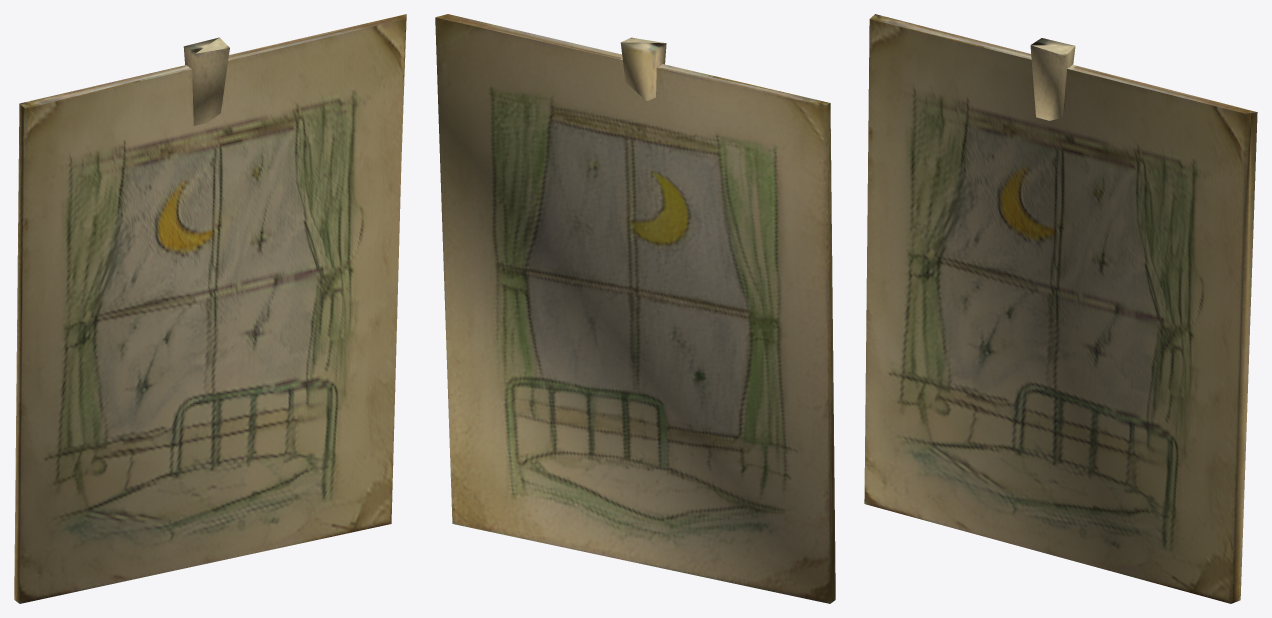
File: picture2.fbx
3 views of the same model, side by side, from view 1: azimuth 30°, elevation 25°; view 2: azimuth 150°, elevation 25°; view 3: azimuth 330°, elevation 25° (orthographic).
Parts seen in each view (by area): view 1: picture2; view 2: picture2; view 3: picture2.
Boxes of the visible parts, x1,y1,x2,y2 form: picture2: (14,14,406,603); picture2: (435,14,835,603); picture2: (864,14,1257,603).
Size of the model in its own units: 171 by 217 by 8.61.
1 material, 1 textured.
